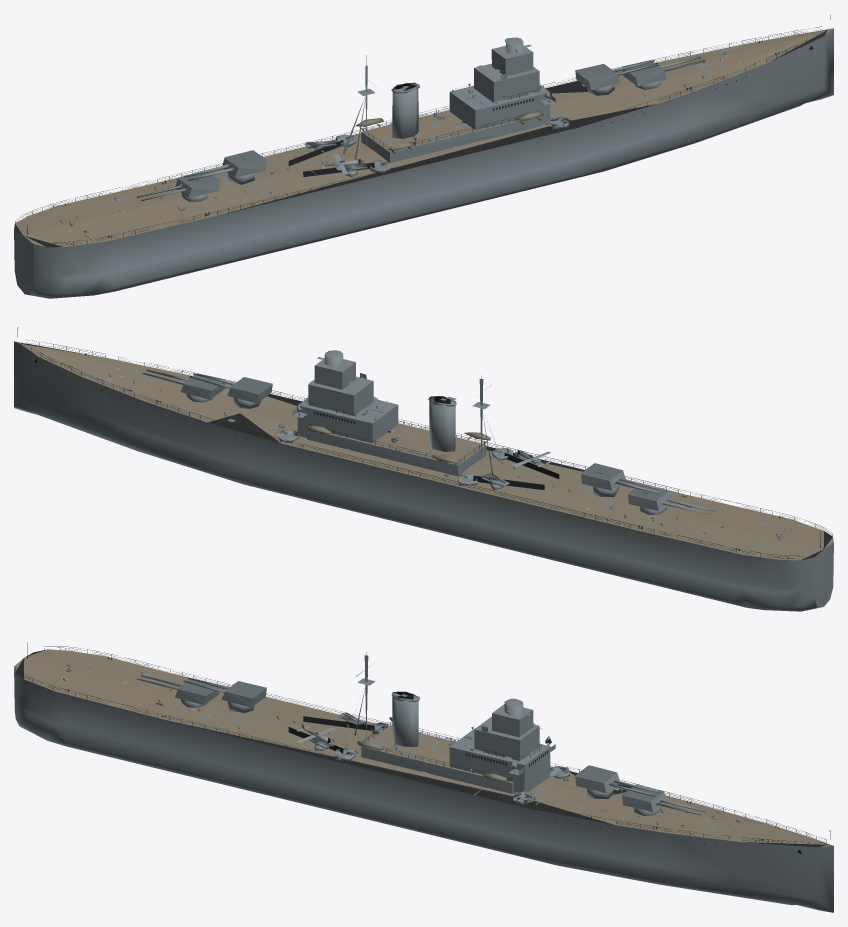
File: hipper_lod.glb
The picture shows the model from 3 angles, top to bottom: view 1: azimuth 30°, elevation 25°; view 2: azimuth 150°, elevation 25°; view 3: azimuth 330°, elevation 25°; orthographic projection.
Visible parts, largest first — view 1: hipper_lod; view 2: hipper_lod; view 3: hipper_lod.
Part boxes in pixels (x1,y1,x2,y2): hipper_lod: [14, 14, 833, 298]; hipper_lod: [14, 327, 833, 611]; hipper_lod: [14, 642, 833, 912].
Bounding box in the file's own units: 208 × 38.48 × 22.14.
